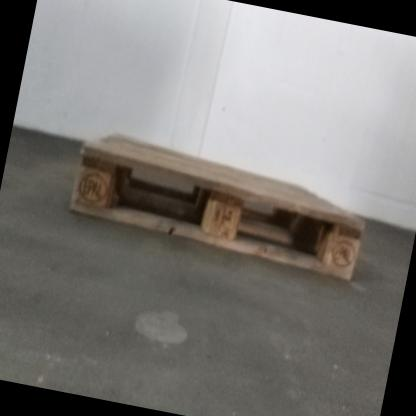BoxFace: (63, 125, 369, 292)
